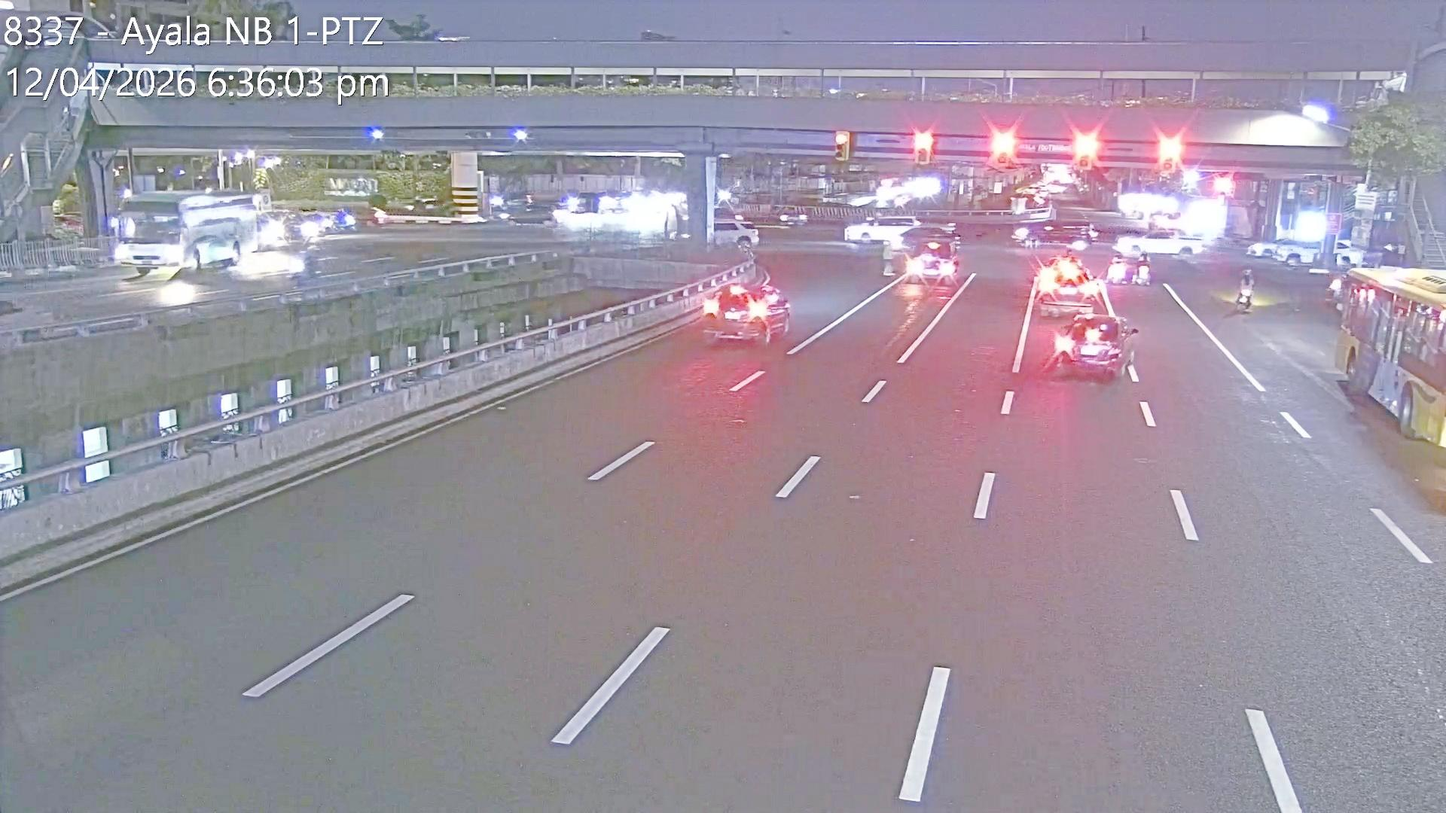Car: (700, 281, 792, 346), (1068, 312, 1133, 375), (1114, 226, 1206, 257), (1041, 264, 1098, 314), (909, 235, 959, 284), (843, 214, 920, 245), (1010, 222, 1100, 248), (500, 196, 561, 225), (712, 209, 758, 246)
Motor: (1234, 269, 1255, 311), (1136, 249, 1152, 286), (1110, 249, 1126, 286)
Not Accident: (1043, 258, 1131, 377)
